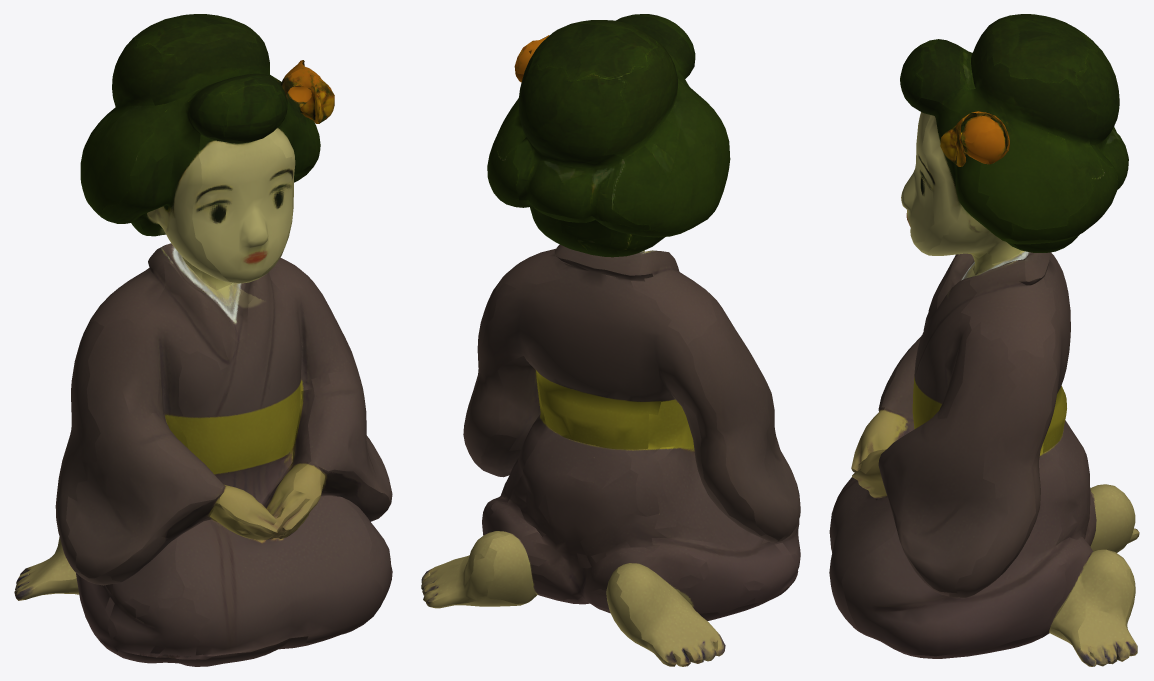
Rendered from viewer_4.glb.
3 renders of one model, left to right at view 1: azimuth 30°, elevation 25°; view 2: azimuth 150°, elevation 25°; view 3: azimuth 270°, elevation 25°, orthographic.
Parts seen in each view (by area): view 1: world; view 2: world; view 3: world.
Part boxes in pixels (bbox=[...]): world: bbox=[14, 14, 392, 666]; world: bbox=[421, 14, 800, 666]; world: bbox=[829, 14, 1139, 666].
Size of the model in its own units: 0.5807 by 0.9997 by 0.4876.
1 material, 1 textured.
